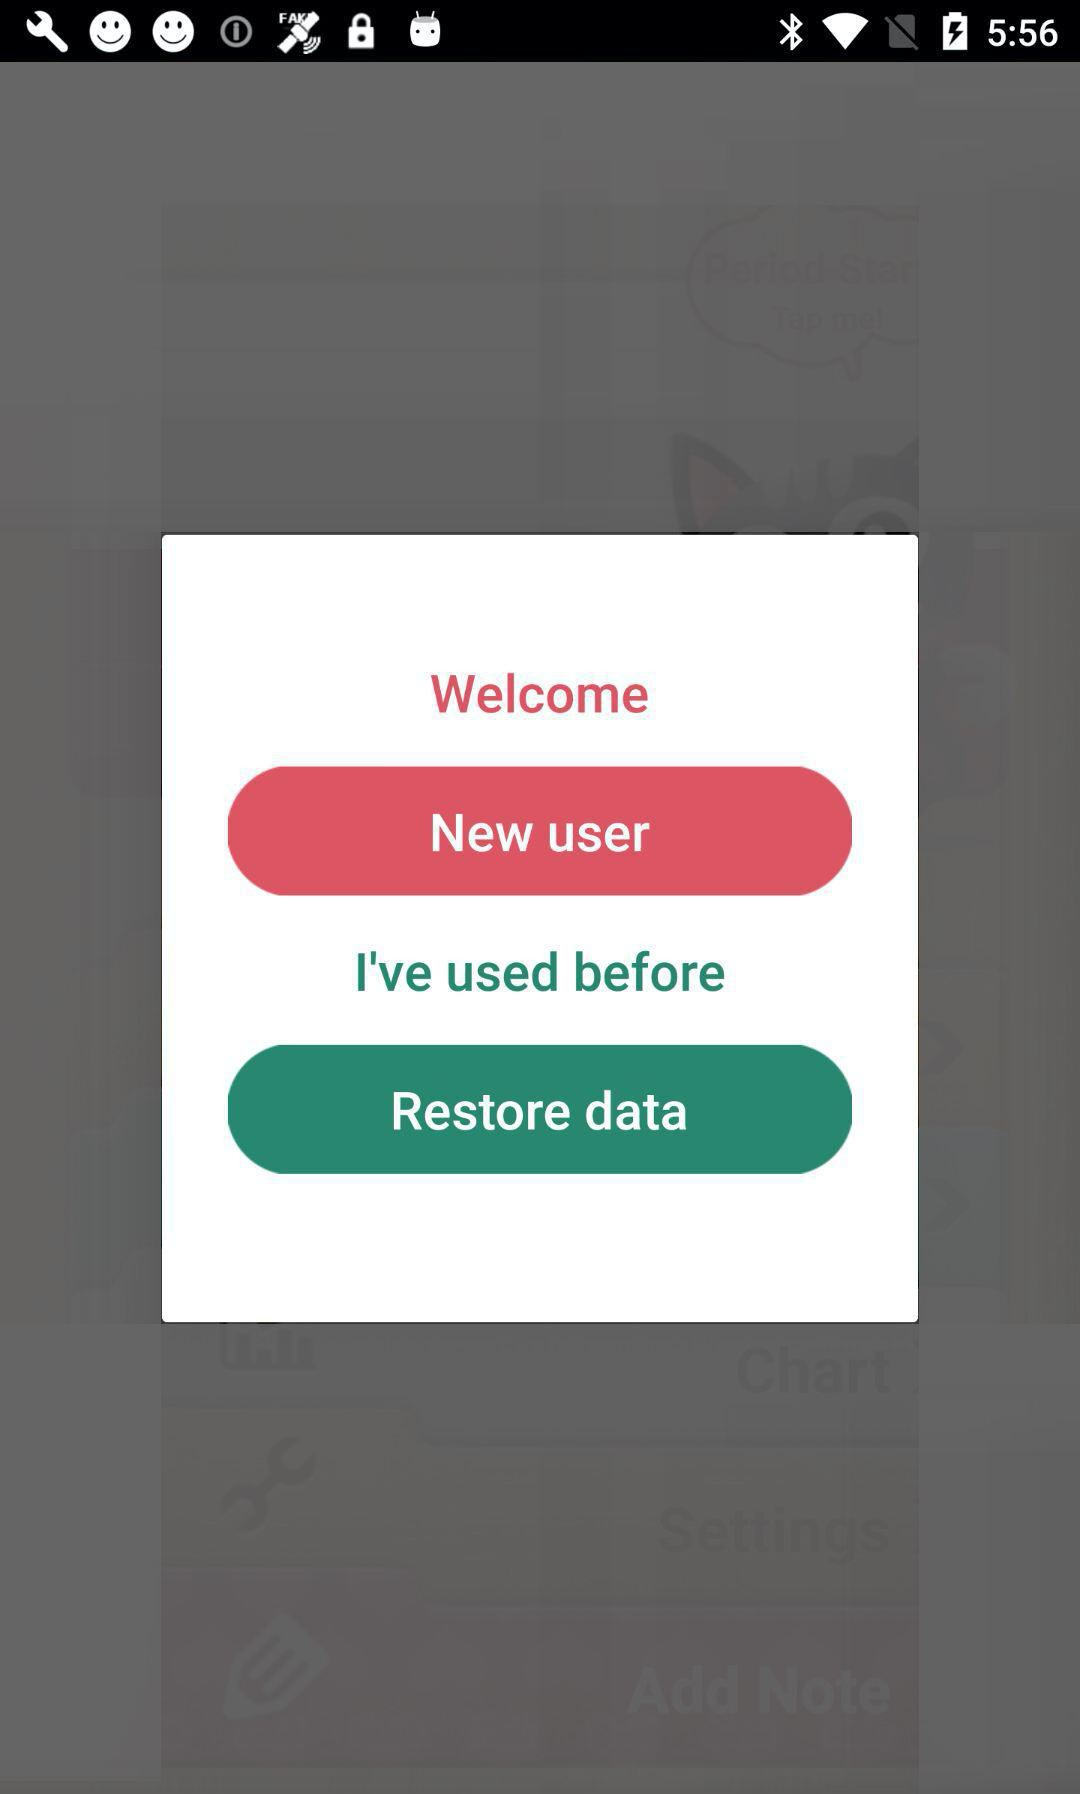Modal: (163, 536, 919, 1322)
Text: (357, 950, 725, 992), (430, 674, 650, 714)
TextButton: (228, 1044, 853, 1175), (228, 766, 853, 897)
UpperTaskBar: (1, 1, 1080, 64)
